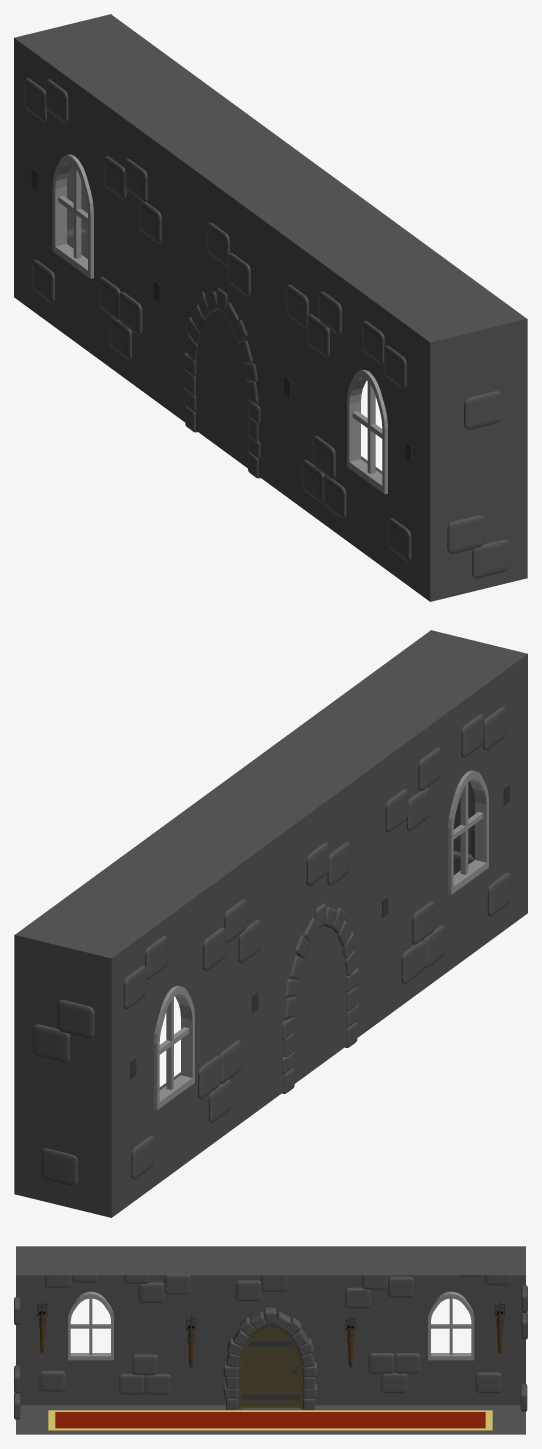
Rendered from project1menu.fbx.
3 views of the same model, one above another, from view 1: azimuth 30°, elevation 25°; view 2: azimuth 150°, elevation 25°; view 3: azimuth 270°, elevation 25° (orthographic). The views are drawn at different scales.
Parts seen in each view (by area): view 1: Plane.001, Cube.003, Cube.077, Cube.076, Cube.084, Cube.086, Cube.085, Cube.040, Cube.079, Cube.081, Cube.008, Cube.031 (+15 smaller); view 2: Plane.001, Cube.003, Cube.076, Cube.077, Cube.088, Cube.087, Cube.089, Cube.033, Cube.031, Cube.035, Cube.080, Cube.081 (+15 smaller); view 3: Plane.001, Cube.058, Cube.003, Cube.077, Cube.076, Cube.081, Cube.034, Cube.036, Cube.005, Cube.001, Cube.041, Cube.040 (+15 smaller).
Boxes of the visible parts, x1=… form: Plane.001: x1=14, y1=14, x2=527, y2=601; Cube.003: x1=183, y1=288, x2=260, y2=478; Cube.077: x1=52, y1=154, x2=93, y2=278; Cube.076: x1=347, y1=370, x2=387, y2=494; Cube.084: x1=447, y1=515, x2=484, y2=553; Cube.086: x1=464, y1=391, x2=501, y2=429; Cube.085: x1=472, y1=539, x2=509, y2=578; Cube.040: x1=119, y1=292, x2=142, y2=335; Cube.079: x1=45, y1=79, x2=68, y2=122; Cube.081: x1=388, y1=518, x2=411, y2=561; Cube.008: x1=323, y1=475, x2=346, y2=518; Cube.031: x1=319, y1=291, x2=341, y2=334; Plane.001: x1=14, y1=630, x2=527, y2=1217; Cube.003: x1=282, y1=903, x2=358, y2=1093; Cube.076: x1=448, y1=770, x2=488, y2=894; Cube.077: x1=154, y1=986, x2=194, y2=1110; Cube.088: x1=57, y1=1000, x2=94, y2=1038; Cube.087: x1=32, y1=1024, x2=69, y2=1062; Cube.089: x1=41, y1=1148, x2=77, y2=1186; Cube.033: x1=385, y1=789, x2=408, y2=832; Cube.031: x1=418, y1=747, x2=441, y2=791; Cube.035: x1=306, y1=842, x2=329, y2=885; Cube.080: x1=123, y1=965, x2=146, y2=1009; Cube.081: x1=487, y1=872, x2=510, y2=916; Plane.001: x1=16, y1=1246, x2=525, y2=1434; Cube.058: x1=48, y1=1410, x2=492, y2=1430; Cube.003: x1=223, y1=1307, x2=317, y2=1409; Cube.077: x1=428, y1=1291, x2=474, y2=1360; Cube.076: x1=68, y1=1291, x2=113, y2=1360; Cube.081: x1=39, y1=1370, x2=65, y2=1391; Cube.034: x1=235, y1=1280, x2=261, y2=1301; Cube.036: x1=388, y1=1276, x2=413, y2=1297; Cube.005: x1=132, y1=1354, x2=157, y2=1375; Cube.001: x1=144, y1=1373, x2=170, y2=1394; Cube.041: x1=394, y1=1353, x2=420, y2=1373; Cube.040: x1=368, y1=1353, x2=394, y2=1373.
Bounding box in the file's own units: 401 × 996 × 2886.
